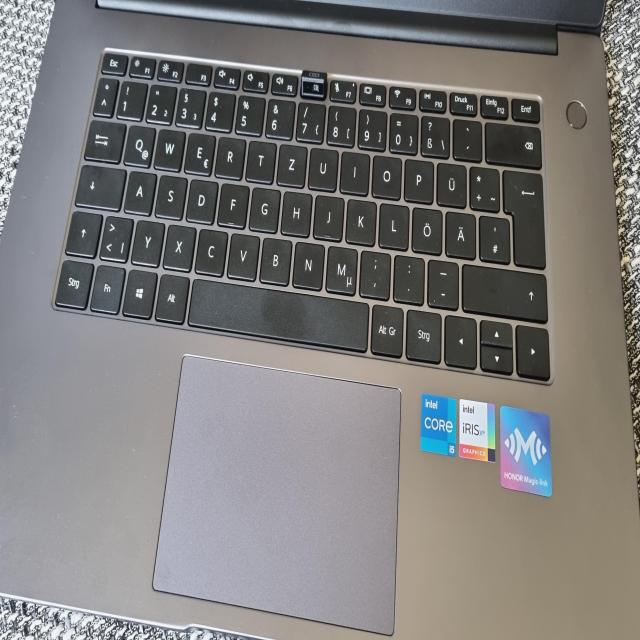0: (173, 36, 188, 58)
1: (35, 20, 51, 40)
2: (50, 22, 66, 42)
3: (64, 24, 80, 44)
4: (80, 25, 95, 46)
5: (95, 28, 110, 48)
6: (111, 29, 126, 50)
7: (126, 31, 141, 52)
8: (142, 33, 157, 55)
9: (157, 34, 172, 56)
a: (39, 65, 55, 89)
accent: (206, 39, 221, 61)
ae: (202, 87, 218, 111)
alt-left: (54, 118, 72, 144)
altgr-right: (164, 134, 181, 161)
b: (108, 100, 124, 124)
c: (75, 95, 92, 119)
caret: (23, 18, 36, 38)
comma: (158, 106, 174, 131)
d: (70, 70, 86, 94)
del: (222, 42, 250, 65)
e: (69, 46, 85, 68)
enter: (231, 66, 253, 116)
f: (86, 72, 102, 95)
g: (102, 74, 118, 98)
h: (118, 76, 134, 100)
hash: (219, 89, 235, 113)
i: (148, 56, 164, 78)
j: (135, 77, 151, 101)
k: (151, 80, 167, 104)
keyboard: (1, 5, 263, 183)
l: (168, 82, 184, 106)
less: (26, 88, 44, 112)
m: (141, 104, 157, 130)
minus: (193, 112, 209, 136)
n: (124, 102, 140, 127)
o: (164, 58, 180, 81)
oe: (185, 85, 201, 109)
p: (181, 60, 197, 82)
plus: (214, 64, 230, 88)
point: (175, 109, 191, 133)
q: (39, 42, 55, 64)
r: (85, 48, 101, 70)
s: (55, 68, 71, 91)
shift-left: (8, 86, 28, 110)
shift-lock: (14, 63, 40, 87)
shift-right: (210, 113, 254, 142)
space: (71, 123, 163, 158)
ss: (189, 38, 204, 60)
strg-left: (4, 110, 24, 136)
strg-right: (182, 136, 200, 164)
t: (100, 50, 116, 72)
tab: (18, 40, 40, 62)
u: (132, 54, 148, 77)
ue: (197, 62, 213, 85)
v: (92, 98, 108, 122)
w: (54, 44, 70, 66)
x: (58, 93, 75, 117)
y: (42, 91, 59, 115)
z: (116, 52, 132, 74)
